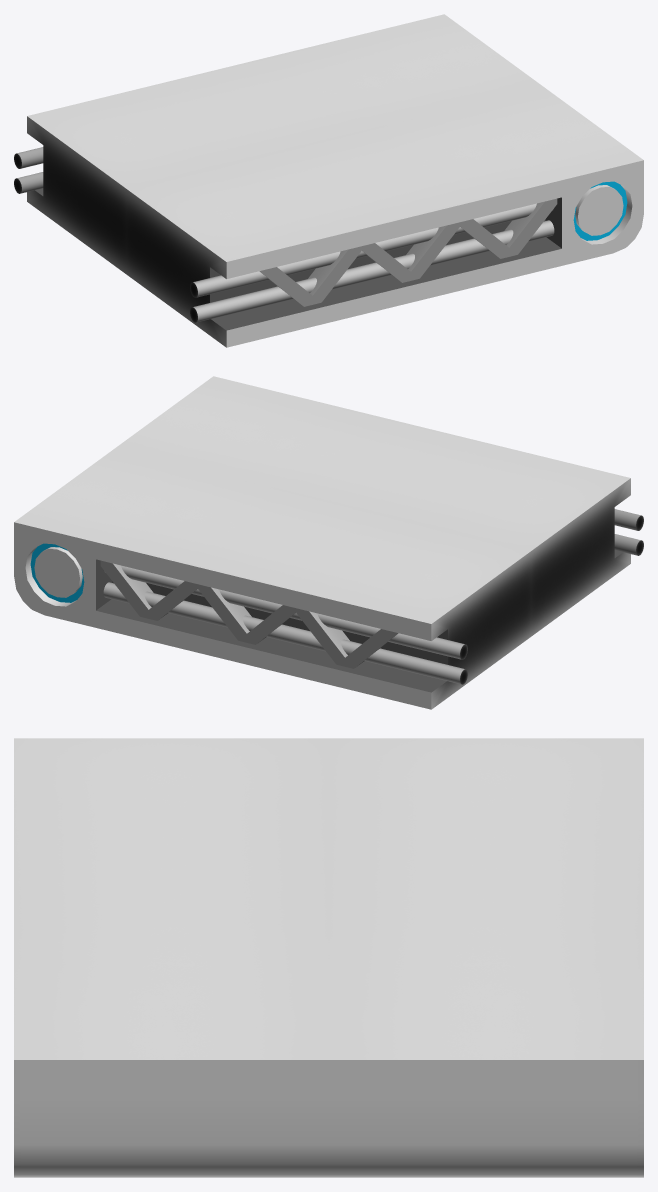
The model's file is Floor12.fbx.
3 views of the same model, one above another, from view 1: azimuth 30°, elevation 25°; view 2: azimuth 150°, elevation 25°; view 3: azimuth 270°, elevation 25° (orthographic). The views are drawn at different scales.
Visible parts, largest first — view 1: pCube1, pCube9, pCylinder1, pCylinder2; view 2: pCube1, pCube9, pCylinder1, pCylinder2; view 3: pCube1.
Part boxes in pixels (box(x1,y1,x2,y2)): pCube1: box(27, 14, 643, 347); pCube9: box(259, 198, 557, 306); pCylinder1: box(14, 172, 554, 322); pCylinder2: box(14, 147, 553, 297); pCube1: box(14, 376, 630, 709); pCube9: box(100, 560, 398, 668); pCylinder1: box(103, 534, 643, 684); pCylinder2: box(104, 509, 643, 659); pCube1: box(14, 738, 643, 1177).
Bounding box in the file's own units: 16.74 × 3.13 × 13.2.
